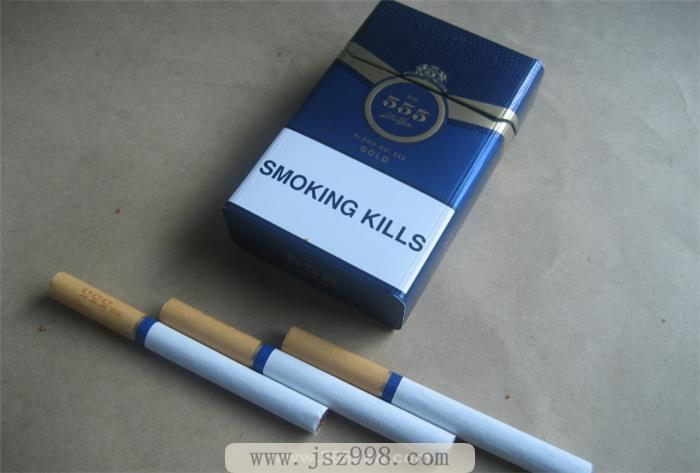smoke: (158, 298, 457, 458), (47, 270, 329, 436), (282, 325, 593, 473)
